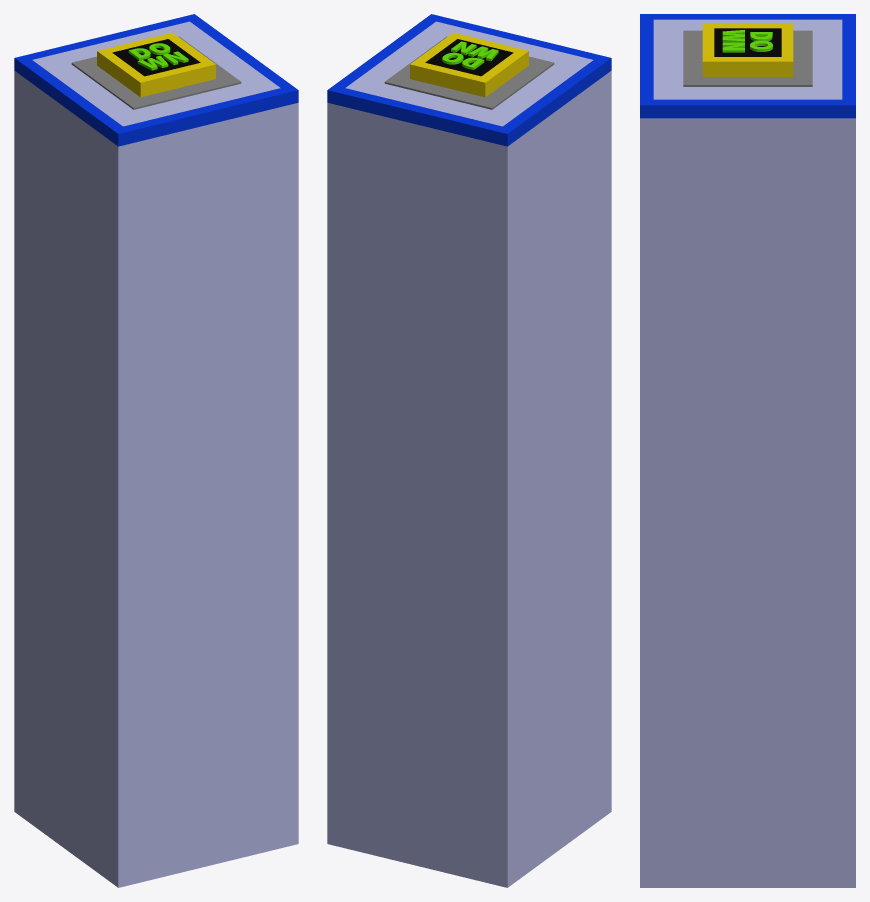
Rendered from blue_yellow_down.fbx.
The picture shows the model from 3 angles, left to right: view 1: azimuth 30°, elevation 25°; view 2: azimuth 150°, elevation 25°; view 3: azimuth 270°, elevation 25°; orthographic projection. The views are drawn at different scales.
Parts seen in each view (by area): view 1: blue_yellow_down; view 2: blue_yellow_down; view 3: blue_yellow_down.
Boxes of the visible parts, box(x1,y1,x2,y2) form: blue_yellow_down: box(14, 14, 298, 887); blue_yellow_down: box(327, 14, 611, 887); blue_yellow_down: box(640, 14, 855, 887).
Size of the model in its own units: 1 by 4.1 by 1.
